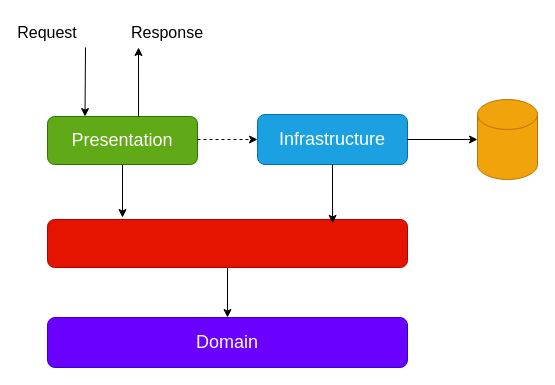
This 555x385 diagram has some shape labels left out. Here are the shapes that lost their labels. From the top down, the centre of each, then its label:
At pixel 507 139: "DB".
At pixel 227 243: "Application".
